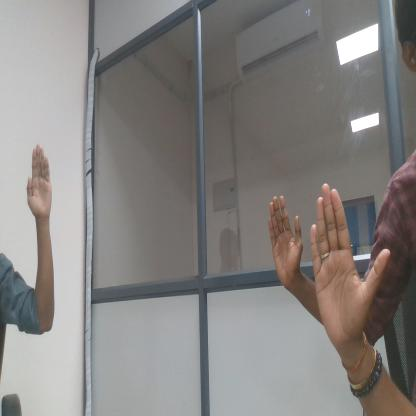Stop: (312, 192, 373, 335), (263, 192, 305, 283), (22, 141, 60, 226)
